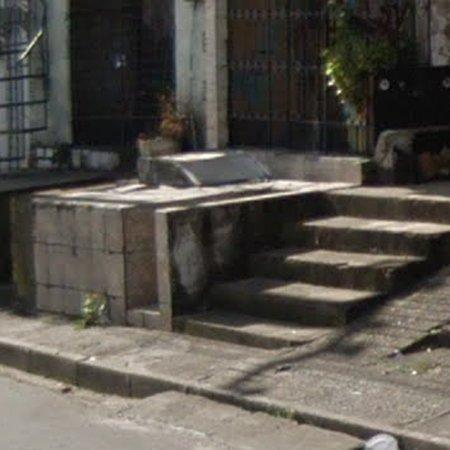stairs: (175, 187, 450, 348)
